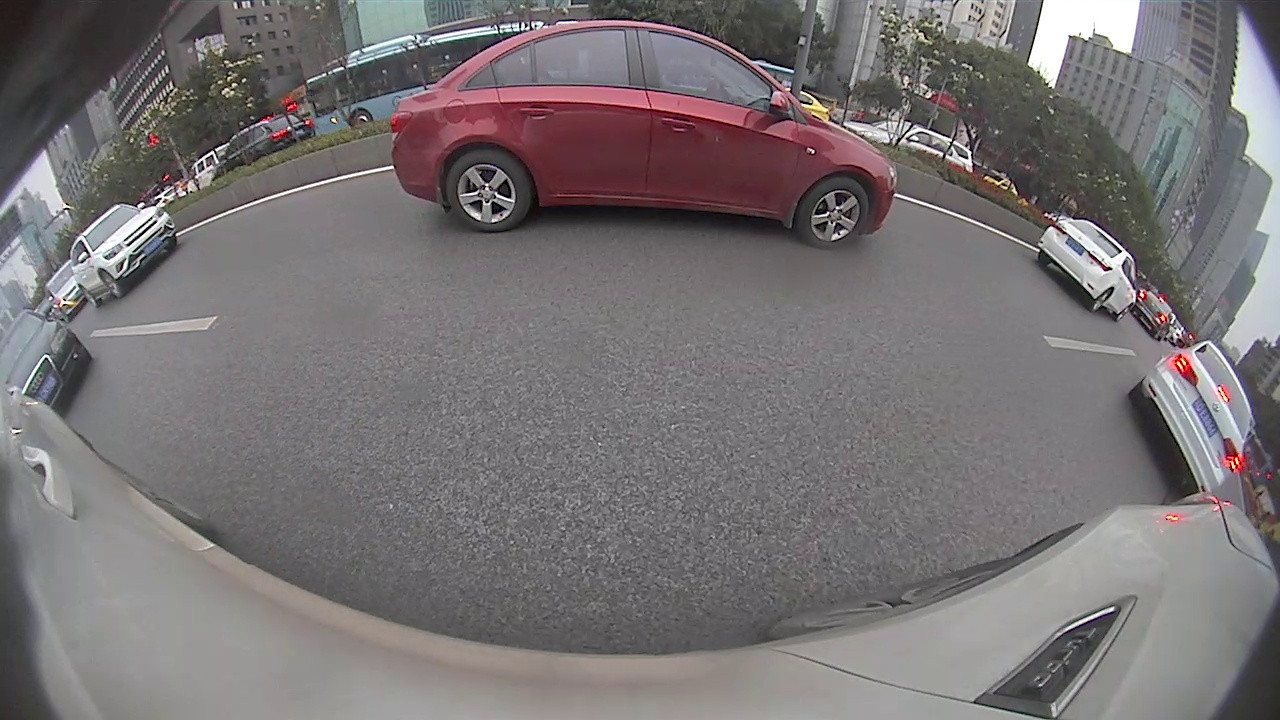car: (391, 18, 898, 250), (1126, 336, 1254, 498), (69, 202, 178, 307), (1037, 217, 1140, 320), (1, 303, 90, 415)
front: (798, 183, 869, 250), (99, 271, 124, 298), (351, 113, 373, 135)
rear: (445, 150, 531, 231), (1090, 288, 1114, 314)
